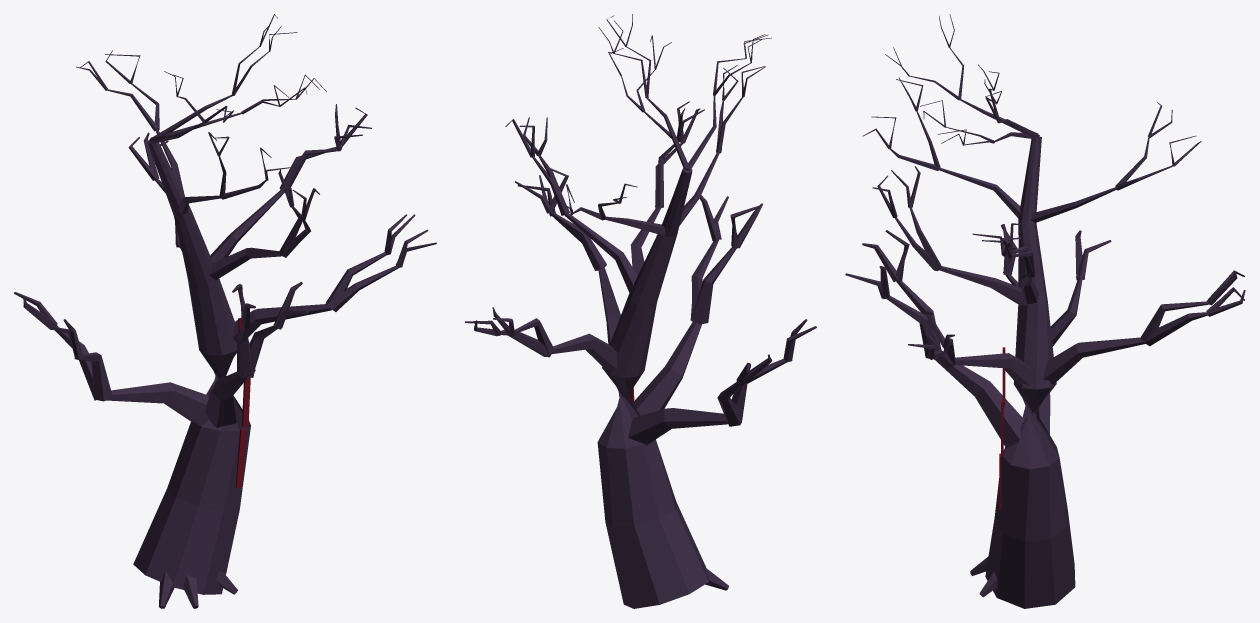
Rendered from dead_tree_a.glb.
The picture shows the model from 3 angles, left to right: view 1: azimuth 30°, elevation 25°; view 2: azimuth 150°, elevation 25°; view 3: azimuth 270°, elevation 25°; orthographic projection. The views are drawn at different scales.
Visible parts, largest first — view 1: dead_tree_a; view 2: dead_tree_a; view 3: dead_tree_a.
Boxes of the visible parts, x1,y1,x2,y2 form: dead_tree_a: (14, 14, 436, 608); dead_tree_a: (465, 14, 816, 608); dead_tree_a: (845, 14, 1245, 608).
Bounding box in the file's own units: 1.86 × 2.99 × 1.95.
